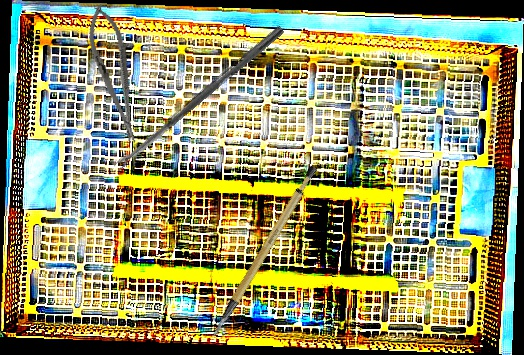Needle Holder: (80, 0, 149, 149)
Scalpel Handle: (186, 163, 338, 339)
Surgical Spoon: (112, 24, 285, 172)
